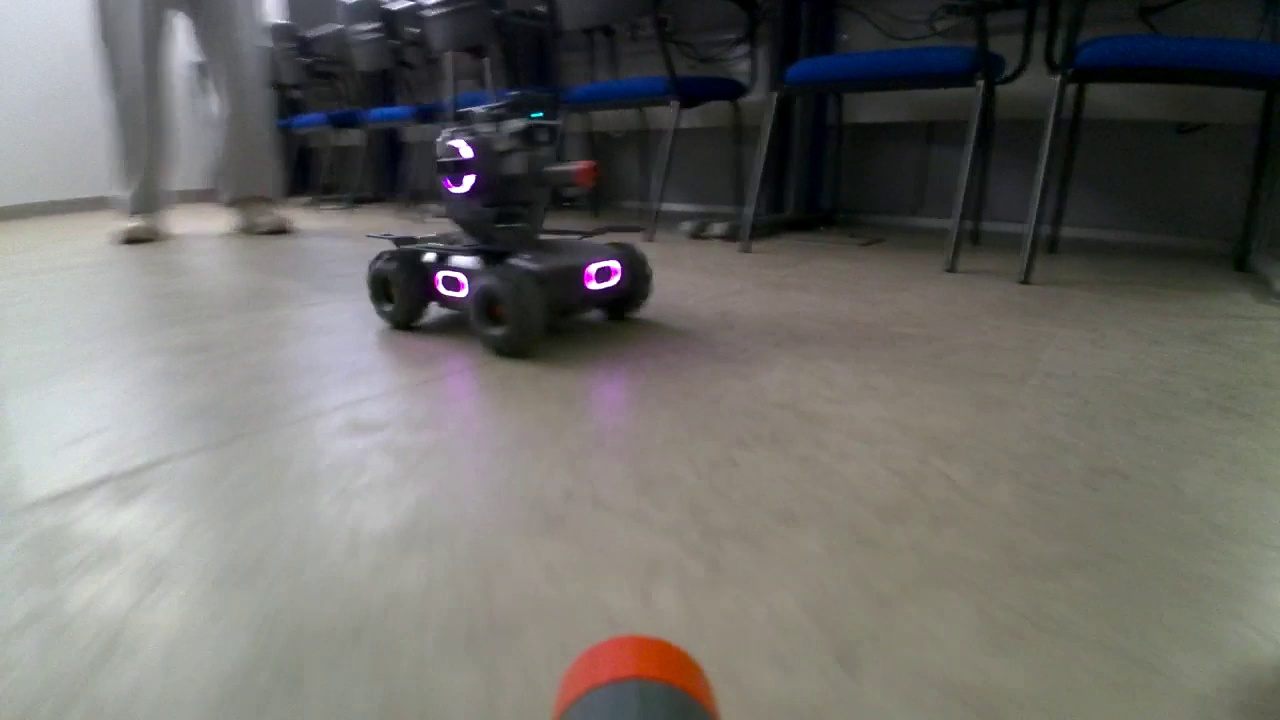robot: (367, 51, 656, 353)
